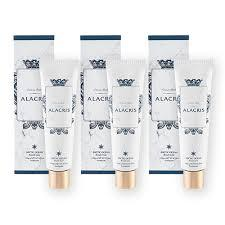toothpaste: (105, 53, 151, 198), (41, 58, 88, 197), (173, 57, 216, 185)
